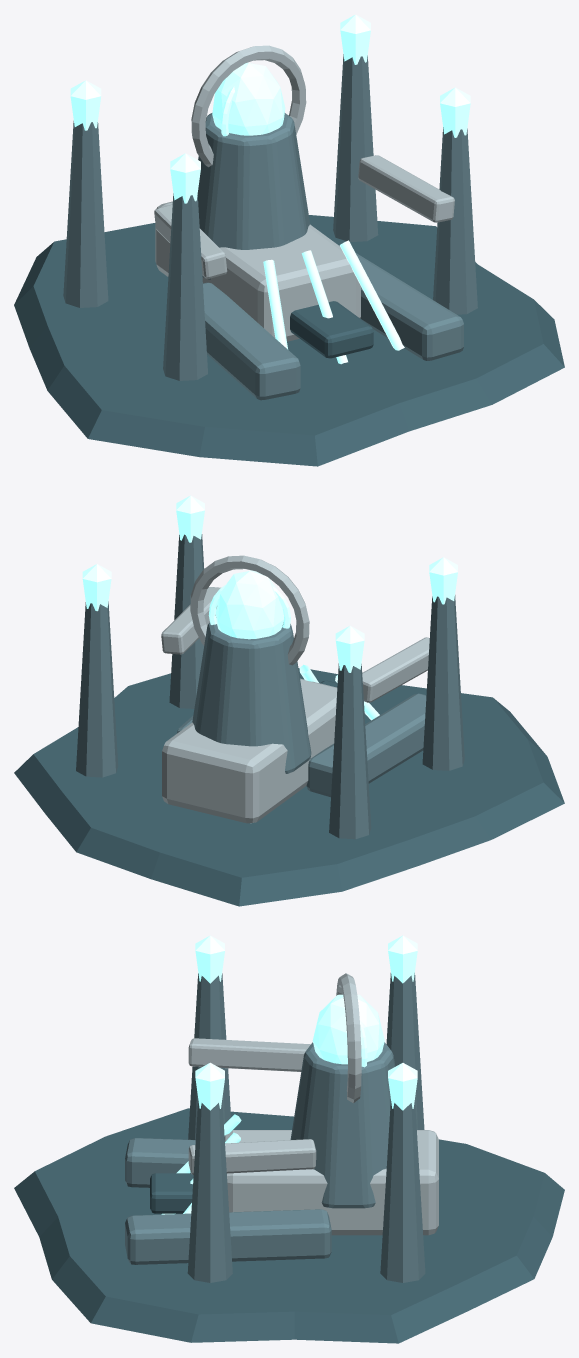
The model's file is liquid-blu-metal-sea-lod0.glb.
The picture shows the model from 3 angles, top to bottom: view 1: azimuth 30°, elevation 25°; view 2: azimuth 150°, elevation 25°; view 3: azimuth 270°, elevation 25°; orthographic projection. The views are drawn at different scales.
Parts seen in each view (by area): view 1: STONE_TERRAIN_SOCKET, METAL_FORGE_HEART, METAL_FORGE_SPINE, METAL_MAGNETIC_PYLON_2, METAL_MAGNETIC_PYLON_0, METAL_HARBOR_PIER_-1, METAL_MAGNETIC_PYLON_3, METAL_MAGNETIC_PYLON_1, METAL_HARBOR_PIER_1, FX_CORE, FX_RING_PRIMARY, DARK_HARBOR_INLET (+9 smaller); view 2: STONE_TERRAIN_SOCKET, METAL_FORGE_HEART, METAL_FORGE_SPINE, METAL_MAGNETIC_PYLON_0, METAL_MAGNETIC_PYLON_2, METAL_MAGNETIC_PYLON_3, METAL_HARBOR_PIER_-1, FX_CORE, METAL_MAGNETIC_PYLON_1, FX_RING_PRIMARY, TRIM_HARBOR_CRANE_ARM_-1, TRIM_HARBOR_CRANE_ARM_1 (+5 smaller); view 3: STONE_TERRAIN_SOCKET, METAL_FORGE_HEART, METAL_FORGE_SPINE, METAL_HARBOR_PIER_1, METAL_MAGNETIC_PYLON_3, METAL_MAGNETIC_PYLON_1, TRIM_HARBOR_CRANE_ARM_-1, METAL_MAGNETIC_PYLON_2, TRIM_HARBOR_CRANE_ARM_1, FX_CORE, METAL_MAGNETIC_PYLON_0, METAL_HARBOR_PIER_-1 (+6 smaller).
Part boxes in pixels (x1,y1,x2,y2): STONE_TERRAIN_SOCKET: [14, 215, 564, 466]; METAL_FORGE_HEART: [197, 113, 309, 279]; METAL_FORGE_SPINE: [155, 201, 360, 341]; METAL_MAGNETIC_PYLON_2: [63, 121, 108, 307]; METAL_MAGNETIC_PYLON_0: [163, 193, 207, 380]; METAL_HARBOR_PIER_-1: [203, 282, 300, 400]; METAL_MAGNETIC_PYLON_3: [333, 54, 378, 242]; METAL_MAGNETIC_PYLON_1: [433, 127, 477, 314]; METAL_HARBOR_PIER_1: [355, 252, 463, 360]; FX_CORE: [212, 62, 285, 135]; FX_RING_PRIMARY: [191, 45, 306, 167]; DARK_HARBOR_INLET: [290, 301, 373, 358]; STONE_TERRAIN_SOCKET: [14, 668, 564, 906]; METAL_FORGE_HEART: [192, 622, 311, 773]; METAL_FORGE_SPINE: [162, 678, 337, 823]; METAL_MAGNETIC_PYLON_0: [422, 595, 464, 770]; METAL_MAGNETIC_PYLON_2: [329, 663, 371, 839]; METAL_MAGNETIC_PYLON_3: [76, 601, 118, 777]; METAL_HARBOR_PIER_-1: [306, 693, 426, 797]; FX_CORE: [216, 570, 283, 639]; METAL_MAGNETIC_PYLON_1: [169, 534, 204, 708]; FX_RING_PRIMARY: [190, 555, 309, 665]; TRIM_HARBOR_CRANE_ARM_-1: [362, 637, 429, 702]; TRIM_HARBOR_CRANE_ARM_1: [161, 587, 220, 654]; STONE_TERRAIN_SOCKET: [14, 1108, 564, 1343]; METAL_FORGE_HEART: [290, 1042, 395, 1208]; METAL_FORGE_SPINE: [224, 1130, 438, 1235]; METAL_HARBOR_PIER_1: [125, 1209, 331, 1264]; METAL_MAGNETIC_PYLON_3: [380, 1100, 425, 1282]; METAL_MAGNETIC_PYLON_1: [187, 1100, 232, 1282]; TRIM_HARBOR_CRANE_ARM_-1: [188, 1038, 310, 1071]; METAL_MAGNETIC_PYLON_2: [386, 973, 424, 1129]; TRIM_HARBOR_CRANE_ARM_1: [188, 1139, 316, 1174]; FX_CORE: [312, 994, 384, 1064]; METAL_MAGNETIC_PYLON_0: [188, 973, 230, 1139]; METAL_HARBOR_PIER_-1: [125, 1138, 195, 1187].
Size of the model in its own units: 1.76 by 0.9439 by 1.83.
